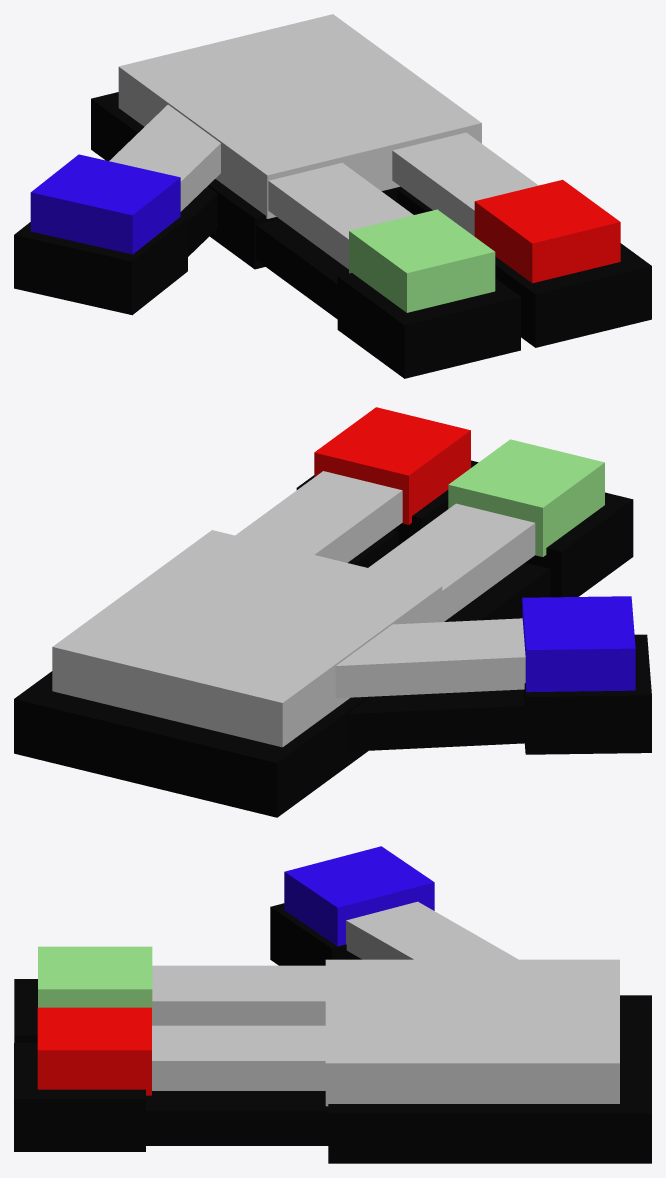
File: item-finglorpainter.glb
The picture shows the model from 3 angles, top to bottom: view 1: azimuth 30°, elevation 25°; view 2: azimuth 150°, elevation 25°; view 3: azimuth 270°, elevation 25°; orthographic projection. The views are drawn at different scales.
Bounding box in the file's own units: 3.56 × 0.7826 × 4.34.
